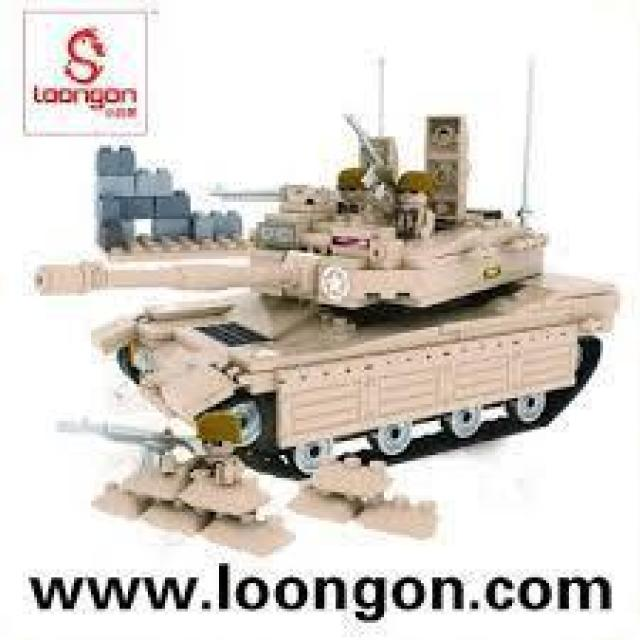Tanks: (41, 183, 573, 508)
